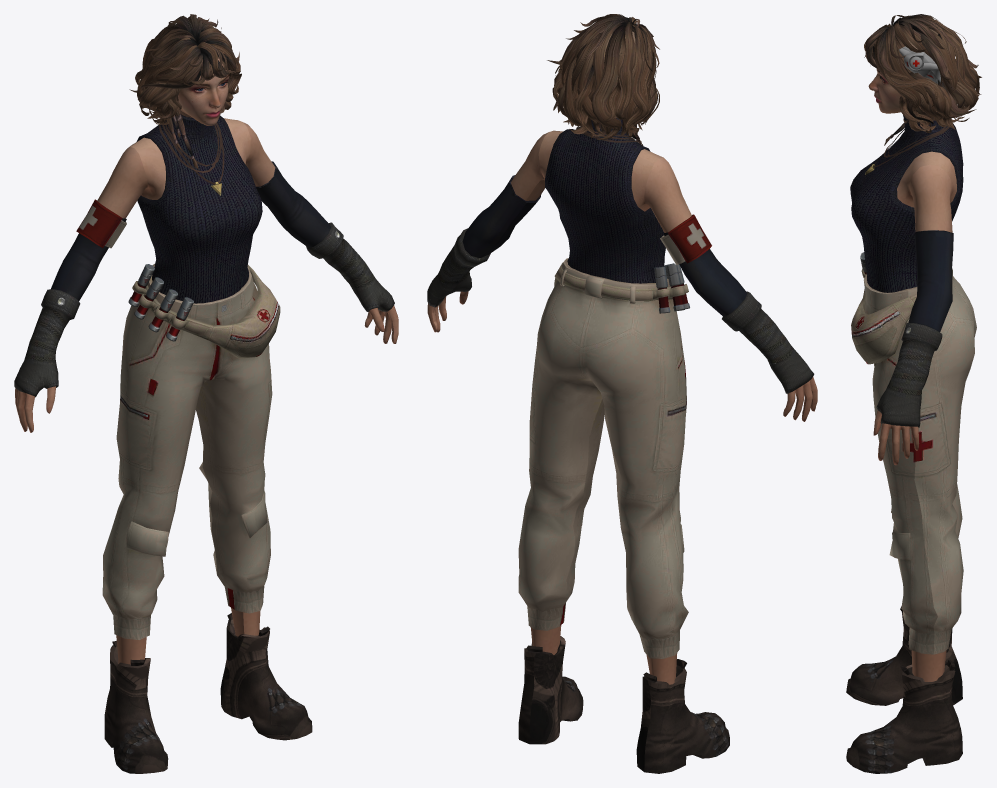
File: olivia-free_fire.glb
3 views of the same model, side by side, from view 1: azimuth 30°, elevation 25°; view 2: azimuth 150°, elevation 25°; view 3: azimuth 270°, elevation 25° (orthographic). The views are drawn at different scales.
Visible parts, largest first — view 1: Object_3, Object_8, Object_7, Object_2, Object_5, Object_4; view 2: Object_3, Object_8, Object_7, Object_5, Object_2; view 3: Object_3, Object_8, Object_7, Object_5, Object_2, Object_4, Object_6.
Part boxes in pixels (x1,y1,x2,y2): Object_3: (102, 263, 280, 639); Object_8: (14, 115, 394, 397); Object_7: (104, 613, 312, 773); Object_2: (15, 110, 398, 664); Object_5: (129, 14, 241, 169); Object_4: (178, 58, 229, 125); Object_3: (518, 258, 689, 658); Object_8: (427, 117, 814, 393); Object_7: (518, 636, 729, 773); Object_5: (547, 14, 659, 144); Object_2: (427, 113, 817, 684); Object_3: (851, 252, 976, 654); Object_8: (850, 112, 963, 427); Object_7: (846, 606, 962, 773); Object_5: (864, 14, 981, 145); Object_2: (873, 111, 956, 681); Object_4: (868, 29, 937, 113); Object_6: (889, 46, 940, 138).
Size of the model in its own units: 2.79 by 5.08 by 0.8827.
7 materials, 7 textured.
